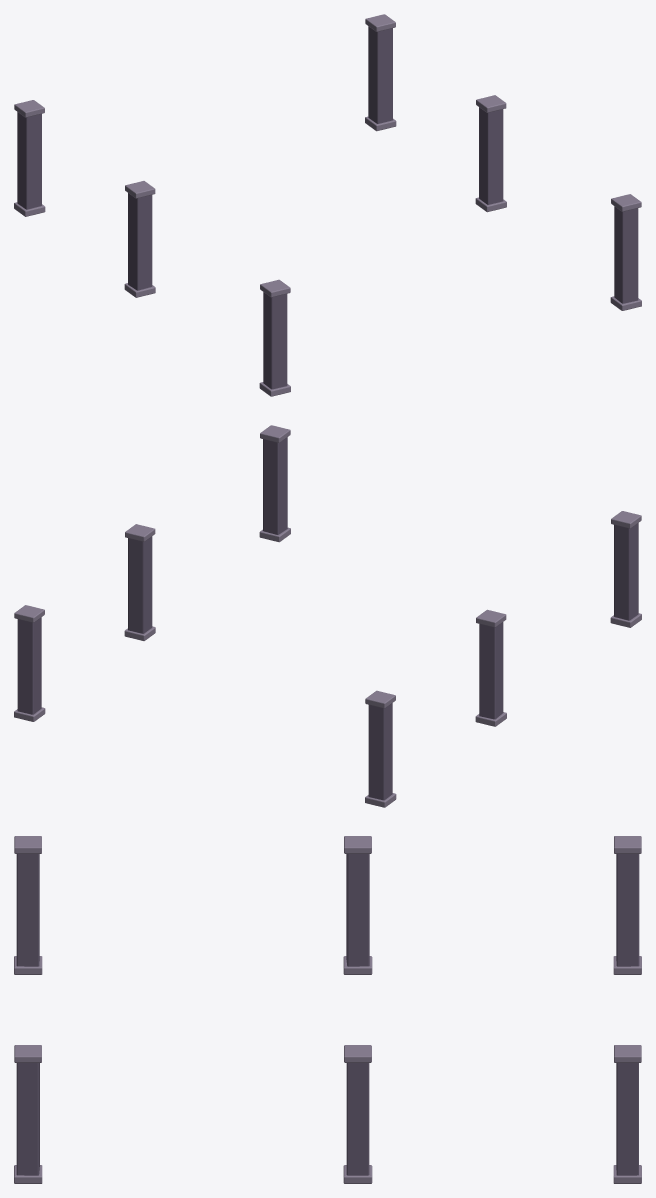
File: Pillars.fbx
3 views of the same model, one above another, from view 1: azimuth 30°, elevation 25°; view 2: azimuth 150°, elevation 25°; view 3: azimuth 270°, elevation 25° (orthographic). The views are drawn at different scales.
Visible parts, largest first — view 1: Pillar-66_36.001; view 2: Pillar-66_36.001; view 3: Pillar-66_36.001.
Part boxes in pixels (box(x1,y1,x2,y2)): Pillar-66_36.001: box(14, 14, 641, 396); Pillar-66_36.001: box(14, 425, 641, 807); Pillar-66_36.001: box(14, 836, 641, 1183).
Size of the model in its own units: 13960 by 3760 by 16760.
